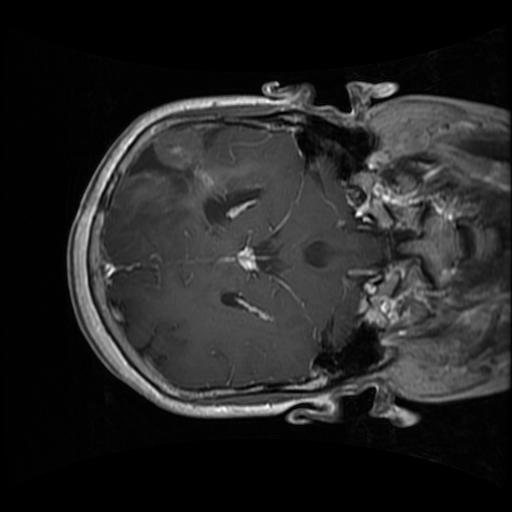glioma: (131, 145, 199, 196)
